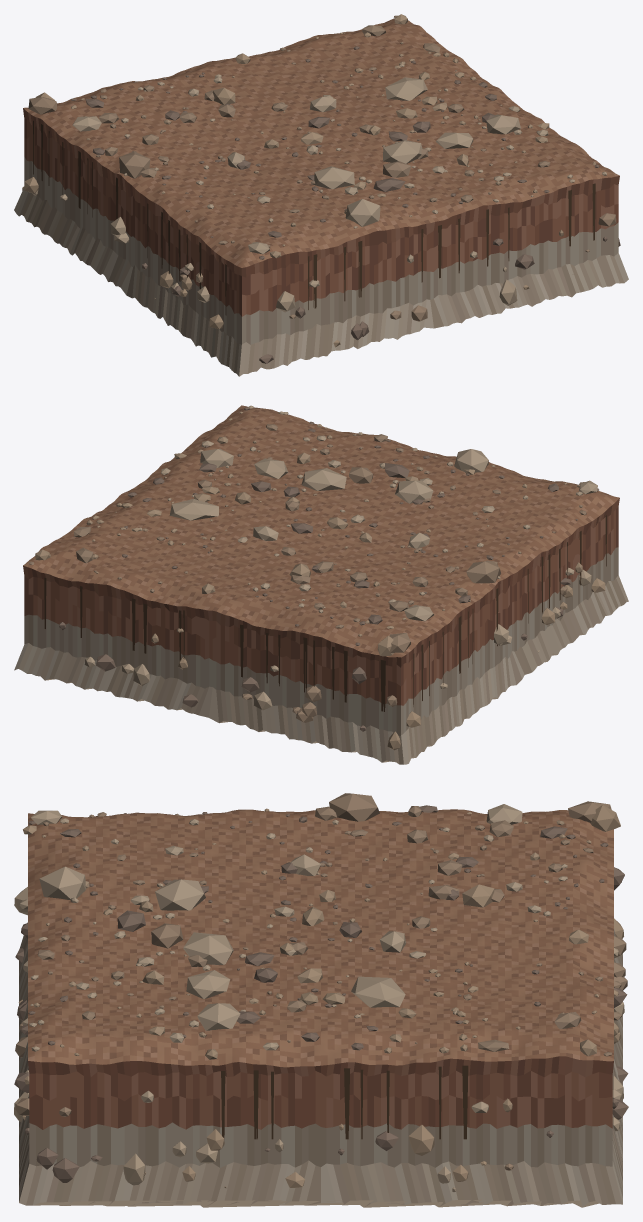
The model's file is 04_红色断崖平台.glb.
3 views of the same model, one above another, from view 1: azimuth 30°, elevation 25°; view 2: azimuth 150°, elevation 25°; view 3: azimuth 270°, elevation 25° (orthographic). The views are drawn at different scales.
Visible parts, largest first — view 1: 地表_可编辑网格, 土层剖面_闭合侧壁, 侧壁侵蚀细沟, 石砾_260, 石砾_180, 石砾_200, 石砾_267, 石砾_268, 石砾_175, 石砾_186; view 2: 地表_可编辑网格, 土层剖面_闭合侧壁, 侧壁侵蚀细沟, 石砾_260, 石砾_200, 石砾_180, 石砾_268, 石砾_267, 石砾_186; view 3: 地表_可编辑网格, 土层剖面_闭合侧壁, 侧壁侵蚀细沟, 石砾_260, 石砾_180, 石砾_267, 石砾_200, 石砾_268, 石砾_186, 石砾_175, 石砾_208, 石砾_282 (+1 smaller).
Part boxes in pixels (box(x1,y1,x2,y2)): 地表_可编辑网格: box(23, 18, 619, 267); 土层剖面_闭合侧壁: box(14, 108, 628, 376); 侧壁侵蚀细沟: box(33, 120, 595, 315); 石砾_260: box(385, 77, 427, 100); 石砾_180: box(314, 166, 354, 189); 石砾_200: box(383, 140, 422, 163); 石砾_267: box(345, 199, 380, 226); 石砾_268: box(119, 151, 150, 178); 石砾_175: box(486, 114, 520, 134); 石砾_186: box(436, 132, 473, 148); 地表_可编辑网格: box(23, 405, 619, 657); 土层剖面_闭合侧壁: box(14, 498, 628, 764); 侧壁侵蚀细沟: box(44, 515, 606, 711); 石砾_260: box(169, 499, 218, 520); 石砾_200: box(301, 468, 346, 490); 石砾_180: box(395, 480, 433, 503); 石砾_268: box(466, 561, 500, 583); 石砾_267: box(454, 449, 488, 472); 石砾_186: box(254, 458, 288, 478); 地表_可编辑网格: box(28, 809, 613, 1067); 土层剖面_闭合侧壁: box(19, 922, 622, 1207); 侧壁侵蚀细沟: box(221, 1065, 468, 1139); 石砾_260: box(351, 976, 405, 1007); 石砾_180: box(155, 879, 205, 910); 石砾_267: box(39, 866, 86, 900); 石砾_200: box(183, 932, 233, 964); 石砾_268: box(329, 793, 379, 821); 石砾_186: box(186, 970, 230, 998); 石砾_175: box(197, 1003, 240, 1030); 石砾_208: box(151, 923, 183, 948); 石砾_282: box(462, 884, 494, 907).
Bounding box in the file's own units: 5.23 × 1.68 × 5.25.
